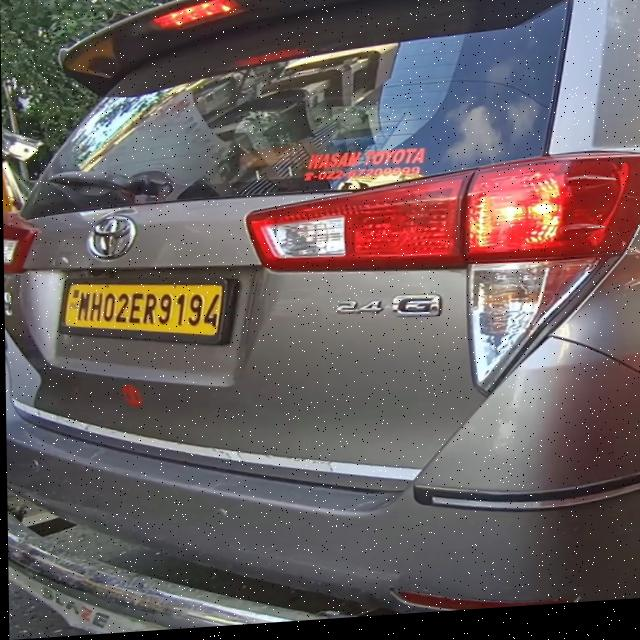plate: (55, 270, 229, 356)
